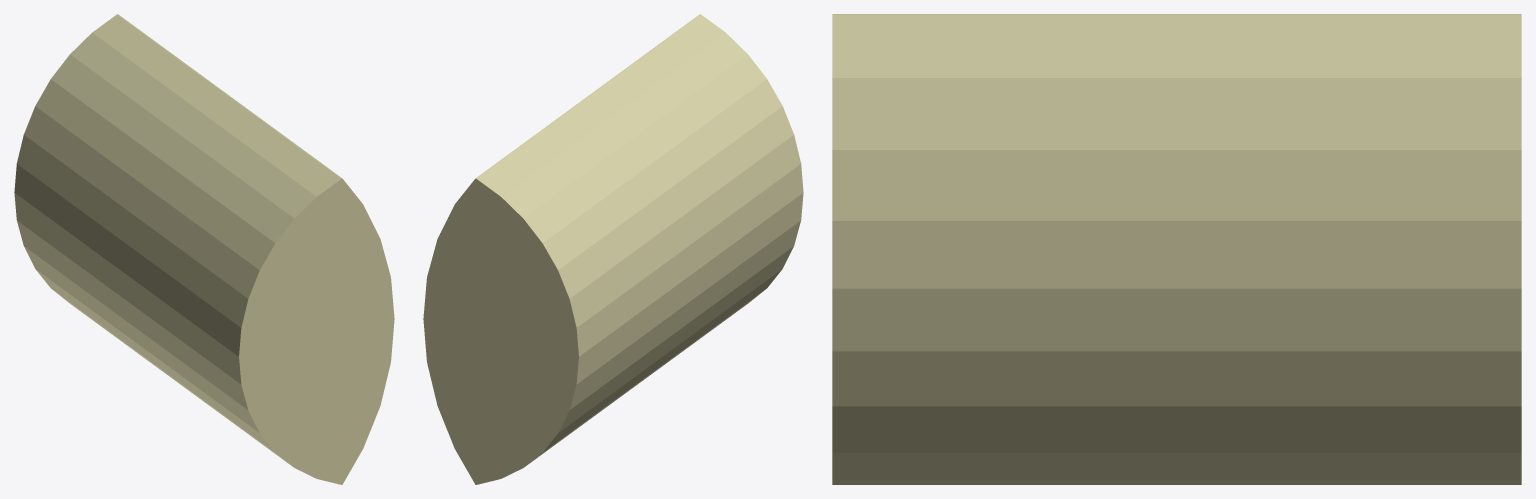
Rendered from intersect3d.glb.
The picture shows the model from 3 angles, left to right: view 1: azimuth 30°, elevation 25°; view 2: azimuth 150°, elevation 25°; view 3: azimuth 270°, elevation 25°; orthographic projection. The views are drawn at different scales.
Parts seen in each view (by area): view 1: geometry_0; view 2: geometry_0; view 3: geometry_0.
Boxes of the visible parts, <box> form: geometry_0: <box>14,14,394,484</box>; geometry_0: <box>423,14,803,484</box>; geometry_0: <box>832,14,1521,484</box>.
Bounding box in the file's own units: 4 × 7.53 × 10.
